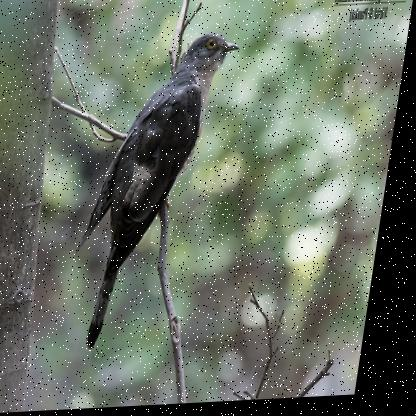Burung: (72, 35, 244, 353)
